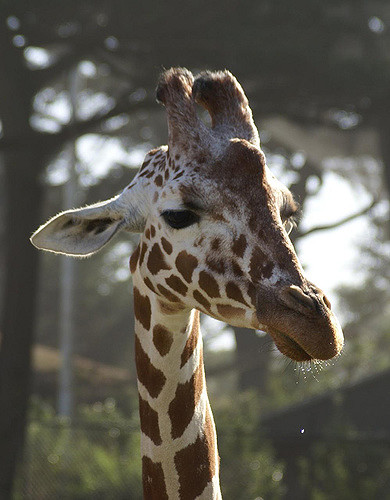giraffe: (34, 57, 348, 469)
